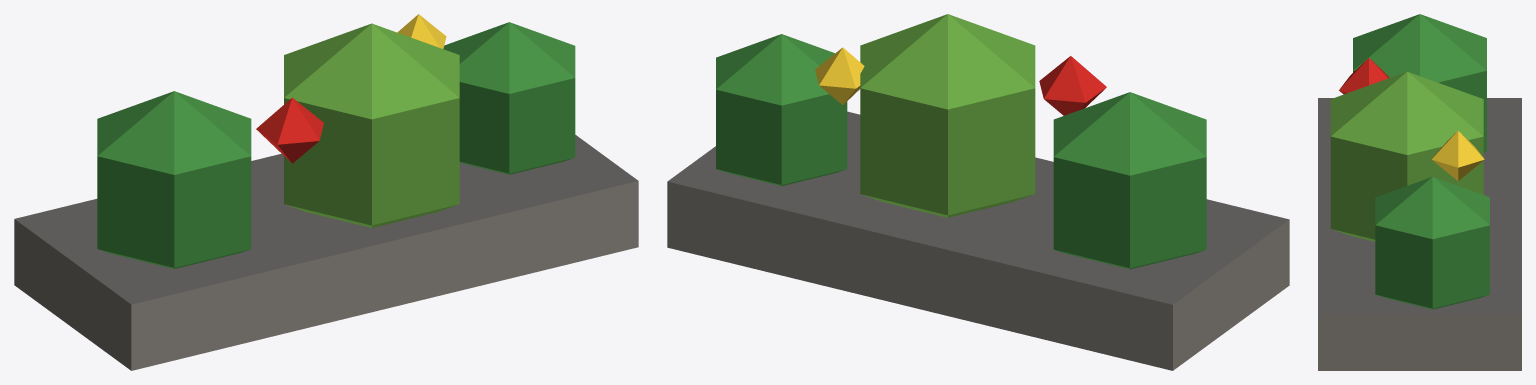
The model's file is jardinera.obj.
3 renders of one model, left to right at view 1: azimuth 30°, elevation 25°; view 2: azimuth 150°, elevation 25°; view 3: azimuth 270°, elevation 25°, orthographic. The views are drawn at different scales.
Visible parts, largest first — view 1: jardinera; view 2: jardinera; view 3: jardinera.
Boxes of the visible parts, x1,y1,x2,y2 form: jardinera: [14, 14, 638, 370]; jardinera: [667, 14, 1289, 370]; jardinera: [1318, 14, 1521, 370].
Size of the model in its own units: 4.02 by 1.8 by 1.6.
